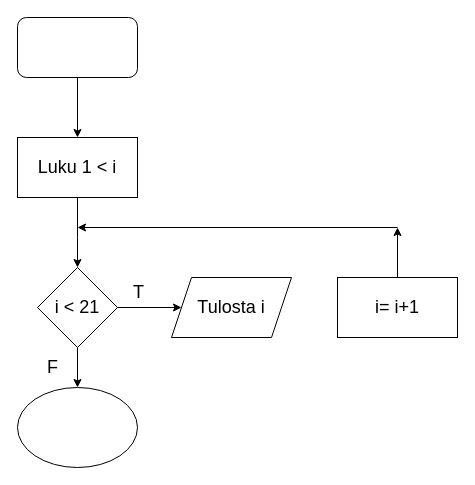
This 475x485 diagram has some shape labels left out. Each missing label, with the box of its shape:
Aloitus: (16, 16, 138, 78)
Loppu: (16, 386, 138, 468)
